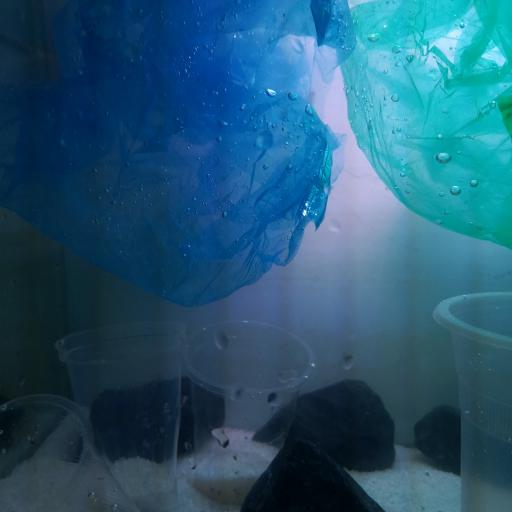plastic_bag: (1, 2, 334, 308), (334, 0, 512, 250)
plastic_cup: (54, 318, 186, 507), (182, 319, 317, 503), (432, 291, 512, 511), (0, 392, 139, 512)
